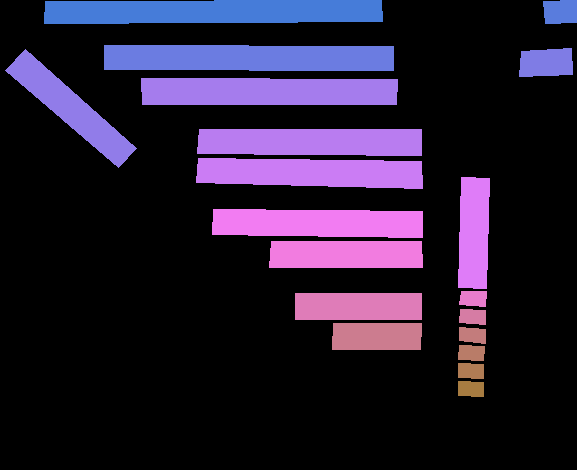parkingspot: (5, 49, 136, 167), (44, 0, 382, 23), (104, 45, 393, 70), (196, 158, 422, 188), (141, 78, 397, 104), (212, 209, 422, 237), (197, 129, 421, 155), (269, 241, 422, 267), (458, 177, 489, 288), (295, 293, 421, 319), (332, 323, 421, 349), (519, 48, 572, 76), (543, 0, 577, 23), (459, 327, 485, 343), (459, 291, 486, 306), (459, 309, 485, 324), (458, 345, 484, 360), (458, 363, 483, 378), (458, 381, 483, 396)
